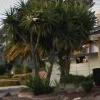Palm tree: (8, 3, 86, 87)
